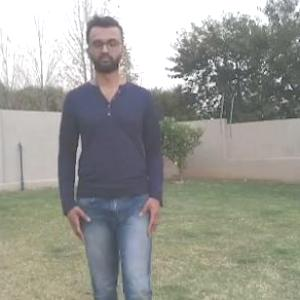follow: (68, 14, 158, 299)
